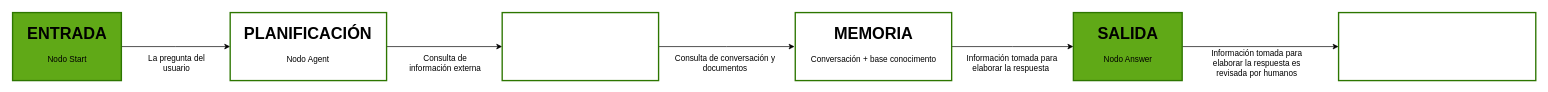
The diagram is 1548 pixels wide and 92 high, and some of its shapes have lost their labels. Here are the shapes that lost their labels. From the top down, the box of each, then its label:
(501, 12, 659, 81): HERRAMIENTAS DuckDuckGo
(1338, 12, 1536, 81): CONTROL HUMANO Aprobación manual
